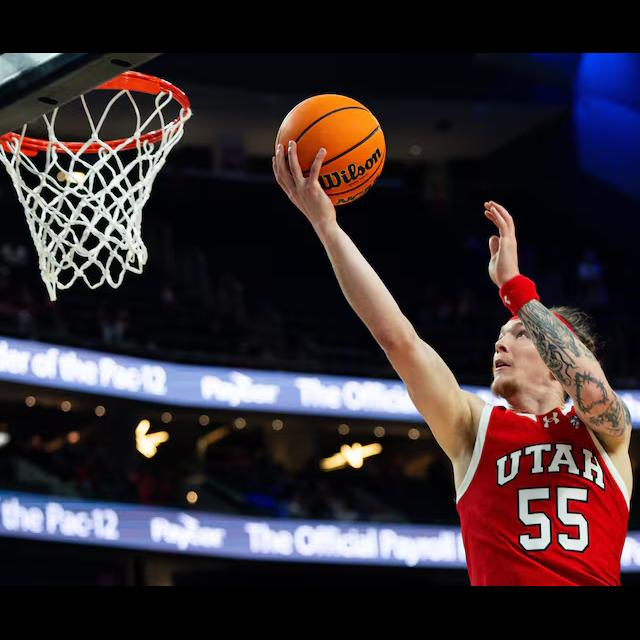basketball: (276, 92, 386, 204)
hoop: (0, 95, 183, 293)
